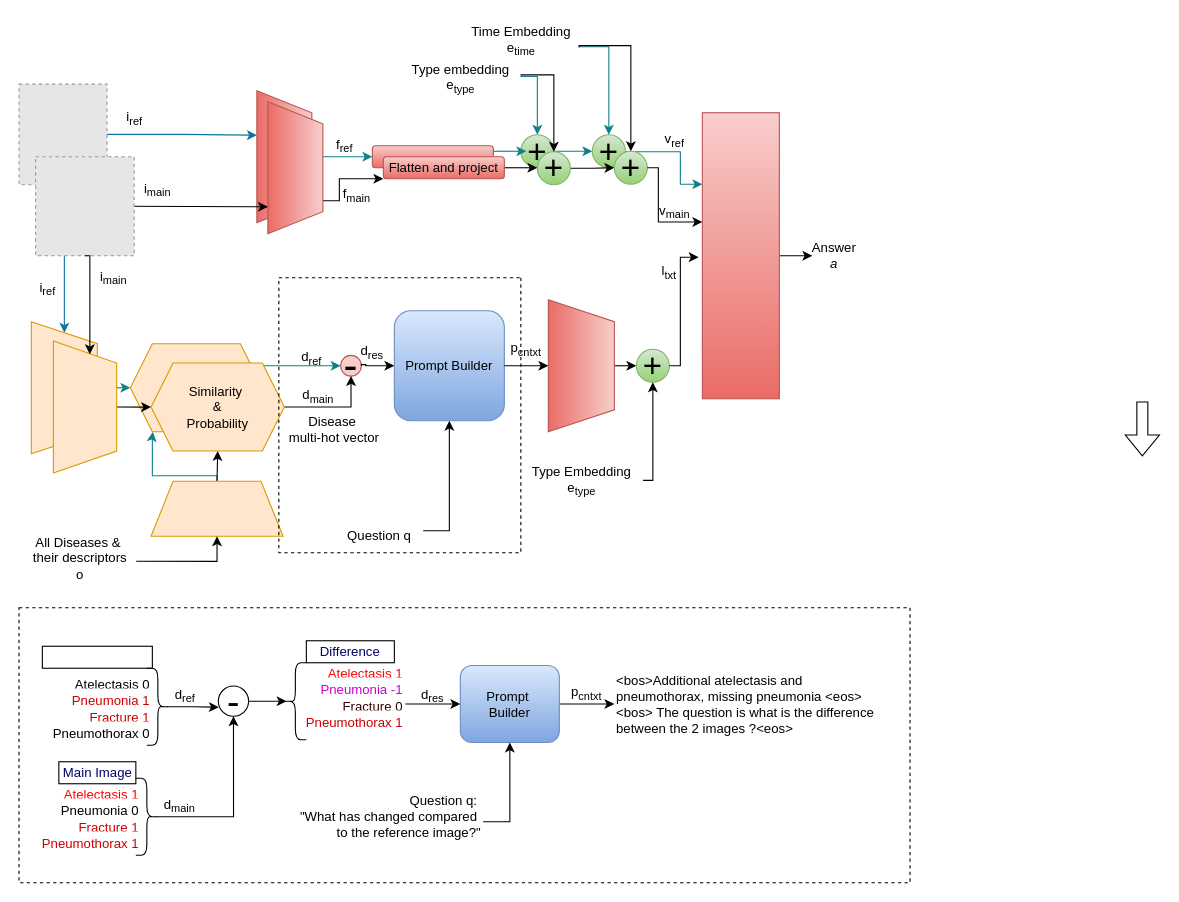
The diagram is 1179 pixels wide and 902 high, and some of its shapes have lost their labels. Grey dashed boxes stand in for pictures. Here are the shapes that lost their labels. From the top down, the box of each, then its label:
(267, 101, 323, 234): RESNET101
(701, 112, 779, 399): OFA Encoder Decoder
(547, 299, 614, 432): Text Encoder
(52, 340, 117, 473): CLIP Image Encoder
(150, 480, 283, 536): CLIP Text Encoder
(41, 645, 152, 668): Reference Image
